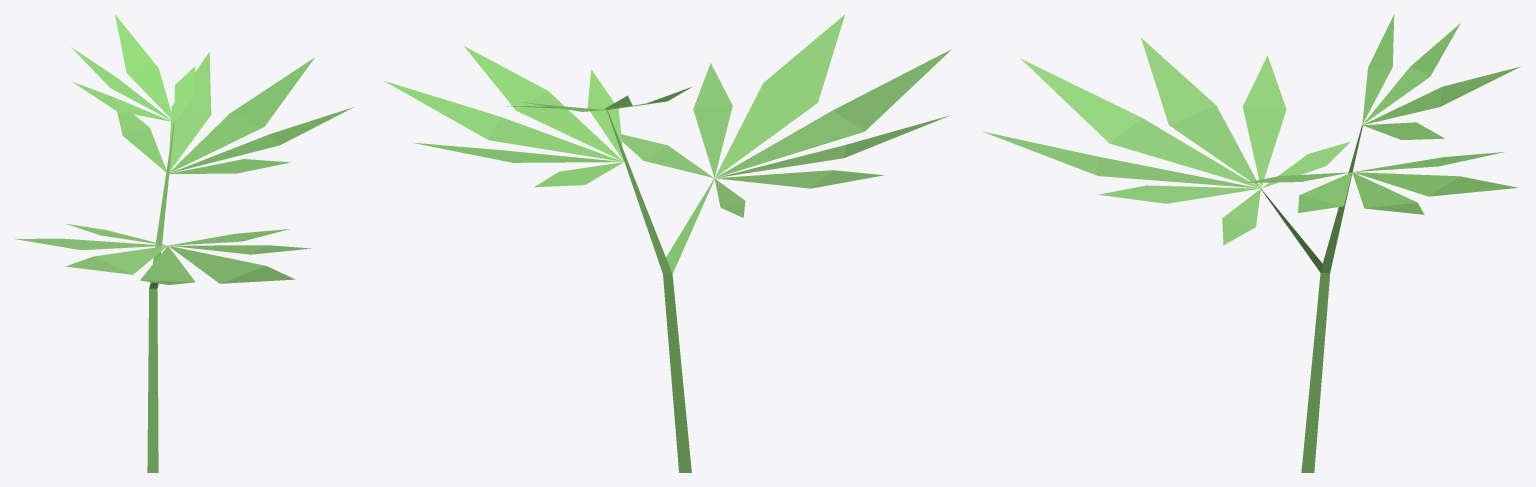
The model's file is Plant_i_OneS_01.fbx.
3 views of the same model, side by side, from view 1: azimuth 30°, elevation 25°; view 2: azimuth 150°, elevation 25°; view 3: azimuth 270°, elevation 25° (orthographic). The views are drawn at different scales.
Visible parts, largest first — view 1: Plant_i_OneS_01; view 2: Plant_i_OneS_01; view 3: Plant_i_OneS_01.
Part boxes in pixels (box(x1,y1,x2,y2)): Plant_i_OneS_01: box(15, 14, 353, 472); Plant_i_OneS_01: box(384, 14, 951, 472); Plant_i_OneS_01: box(982, 14, 1520, 472).
Bounding box in the file's own units: 48 × 46.73 × 52.07.
